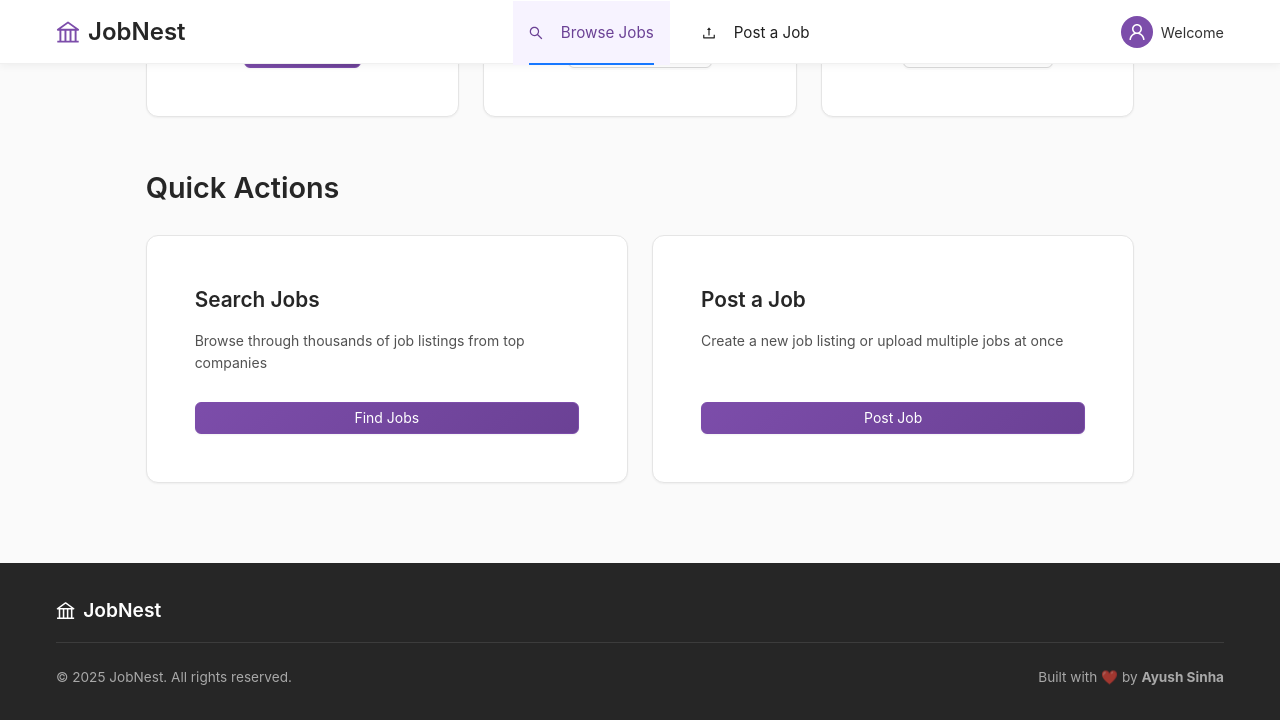
Test: Listing page Test › Should be able to edit job listing
(page scrolled)
Click the button "Find Jobs".
click(387, 418)  # box [195,402,579,434]
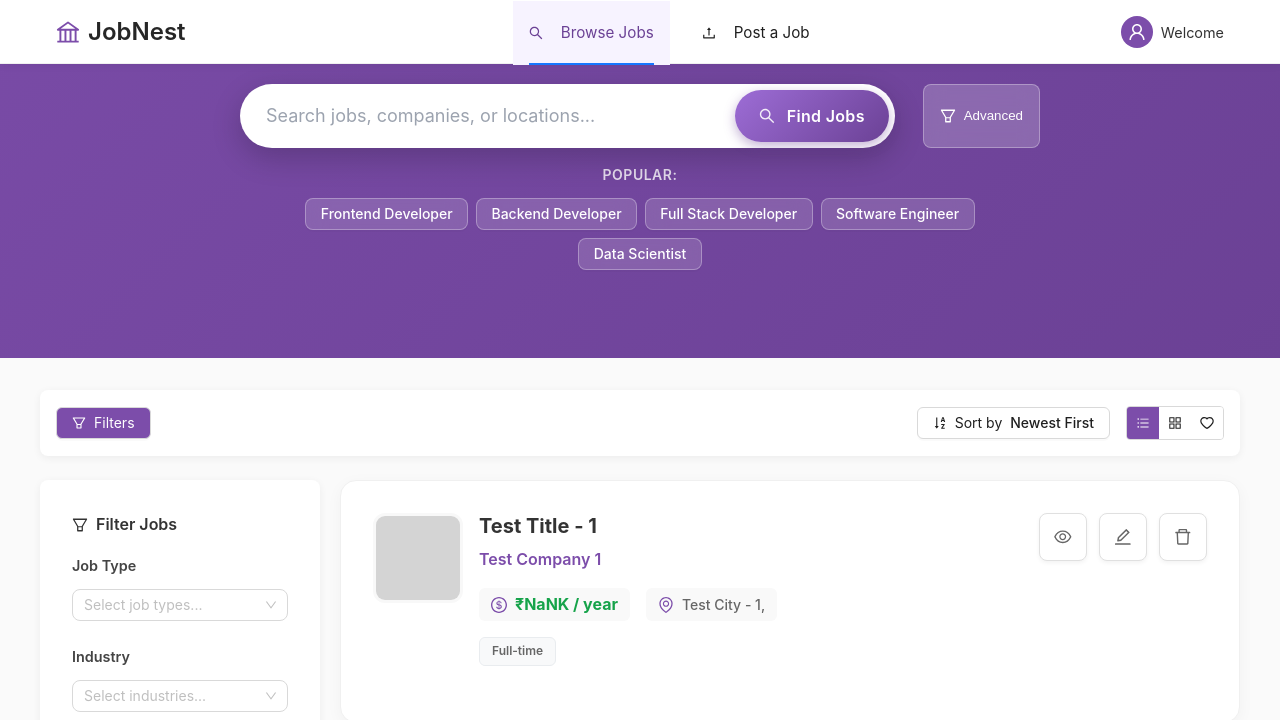
Result: the heading "Test Title - 1" is shown at [479,514,597,538]
Result: the button with test id "edit-button-0" is shown
Click the button with test id "edit-button-0".
click(1123, 537)  # box [1099,513,1147,561]
(page scrolled)
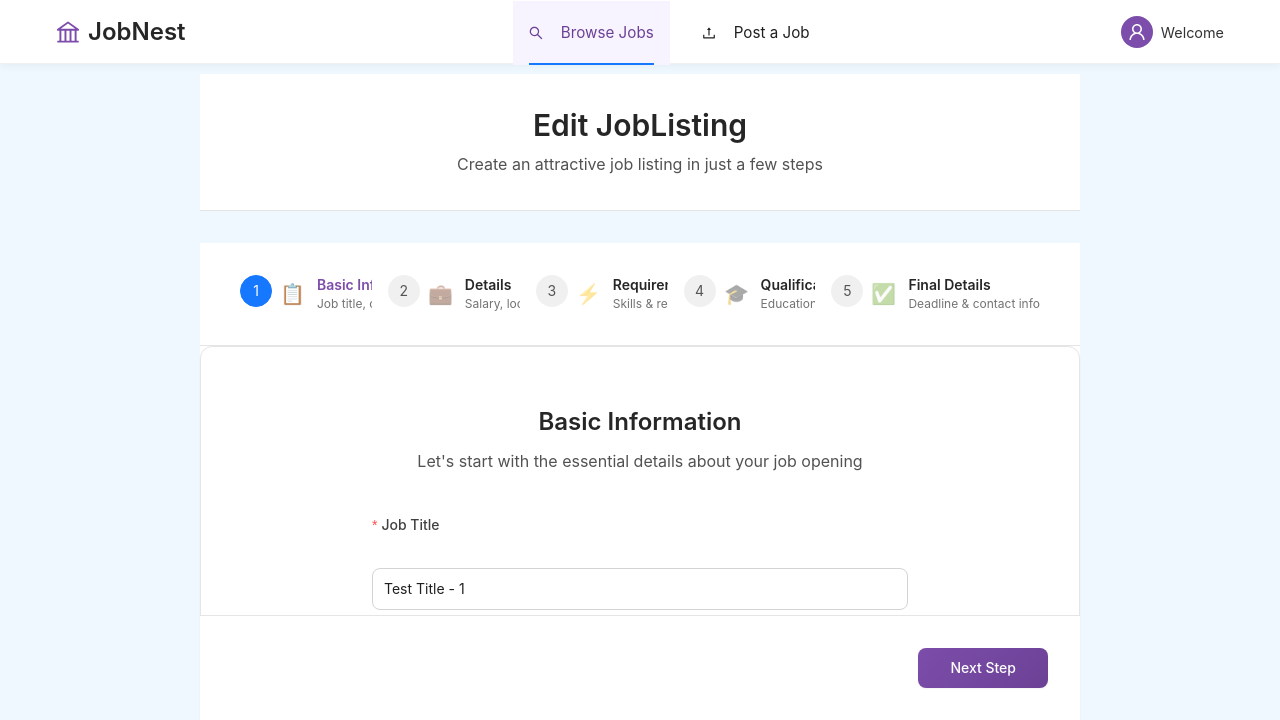
Result: the field with placeholder "e.g. Senior Frontend Developer" holds "Test Title - 1" at [372,568,908,610]
